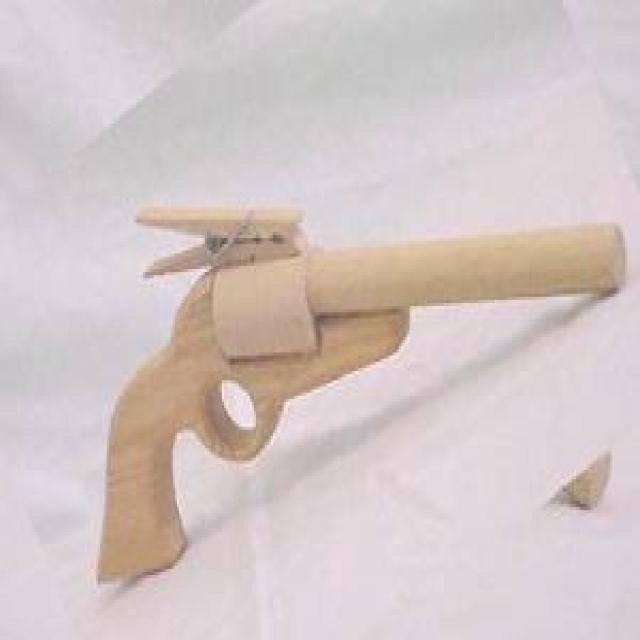pistol: (79, 189, 627, 575)
